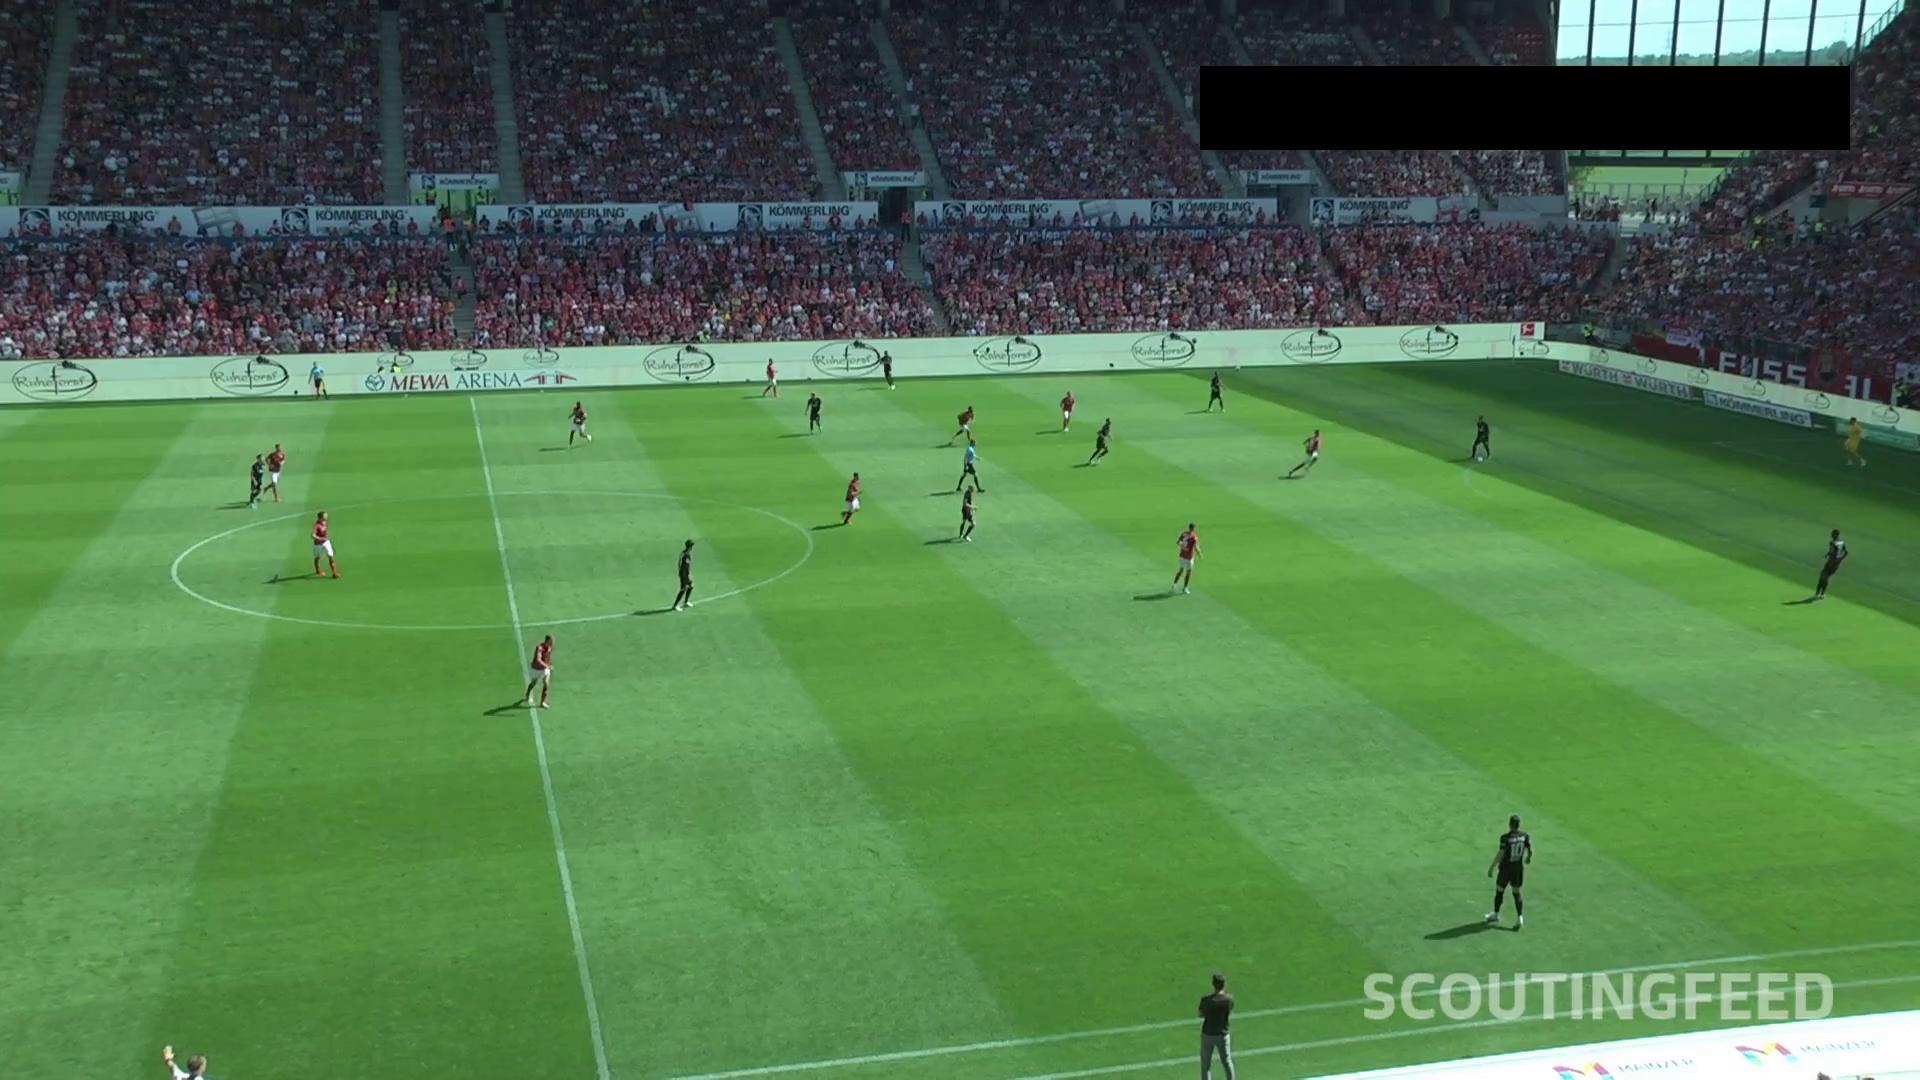Location-of-ball: (1472, 454, 1490, 467)
